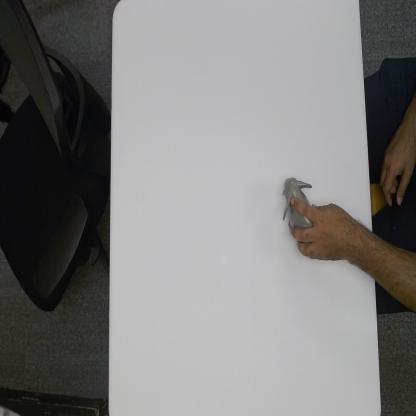Arm: (348, 214, 372, 277)
Elephant: (282, 173, 315, 237)
Hand: (288, 194, 347, 264)
